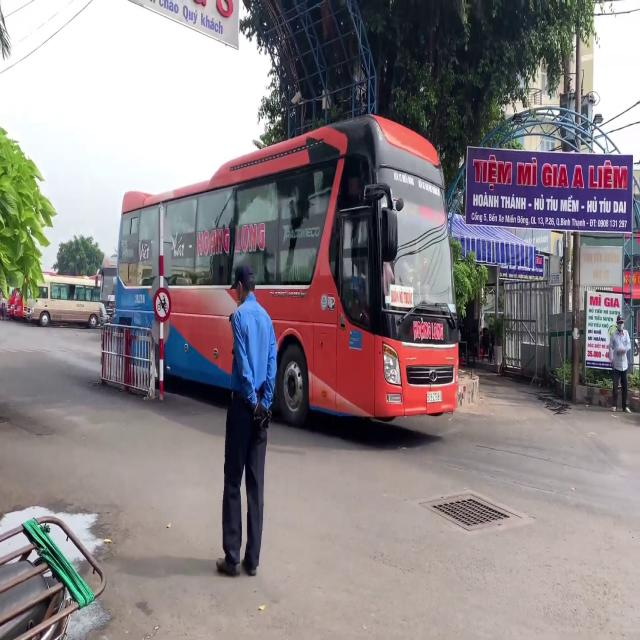bien_trang: (425, 391, 443, 402)
